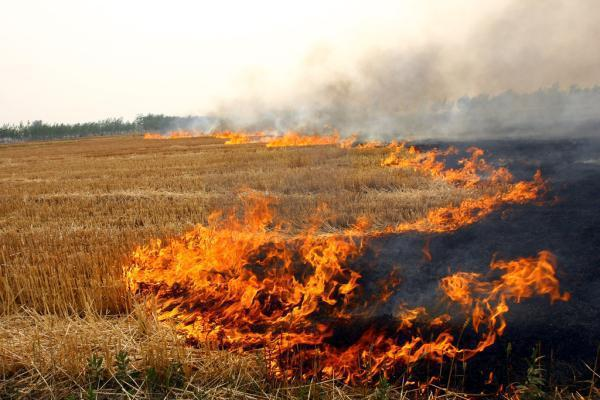fire: (102, 198, 561, 381), (378, 136, 537, 232), (133, 122, 372, 156)
